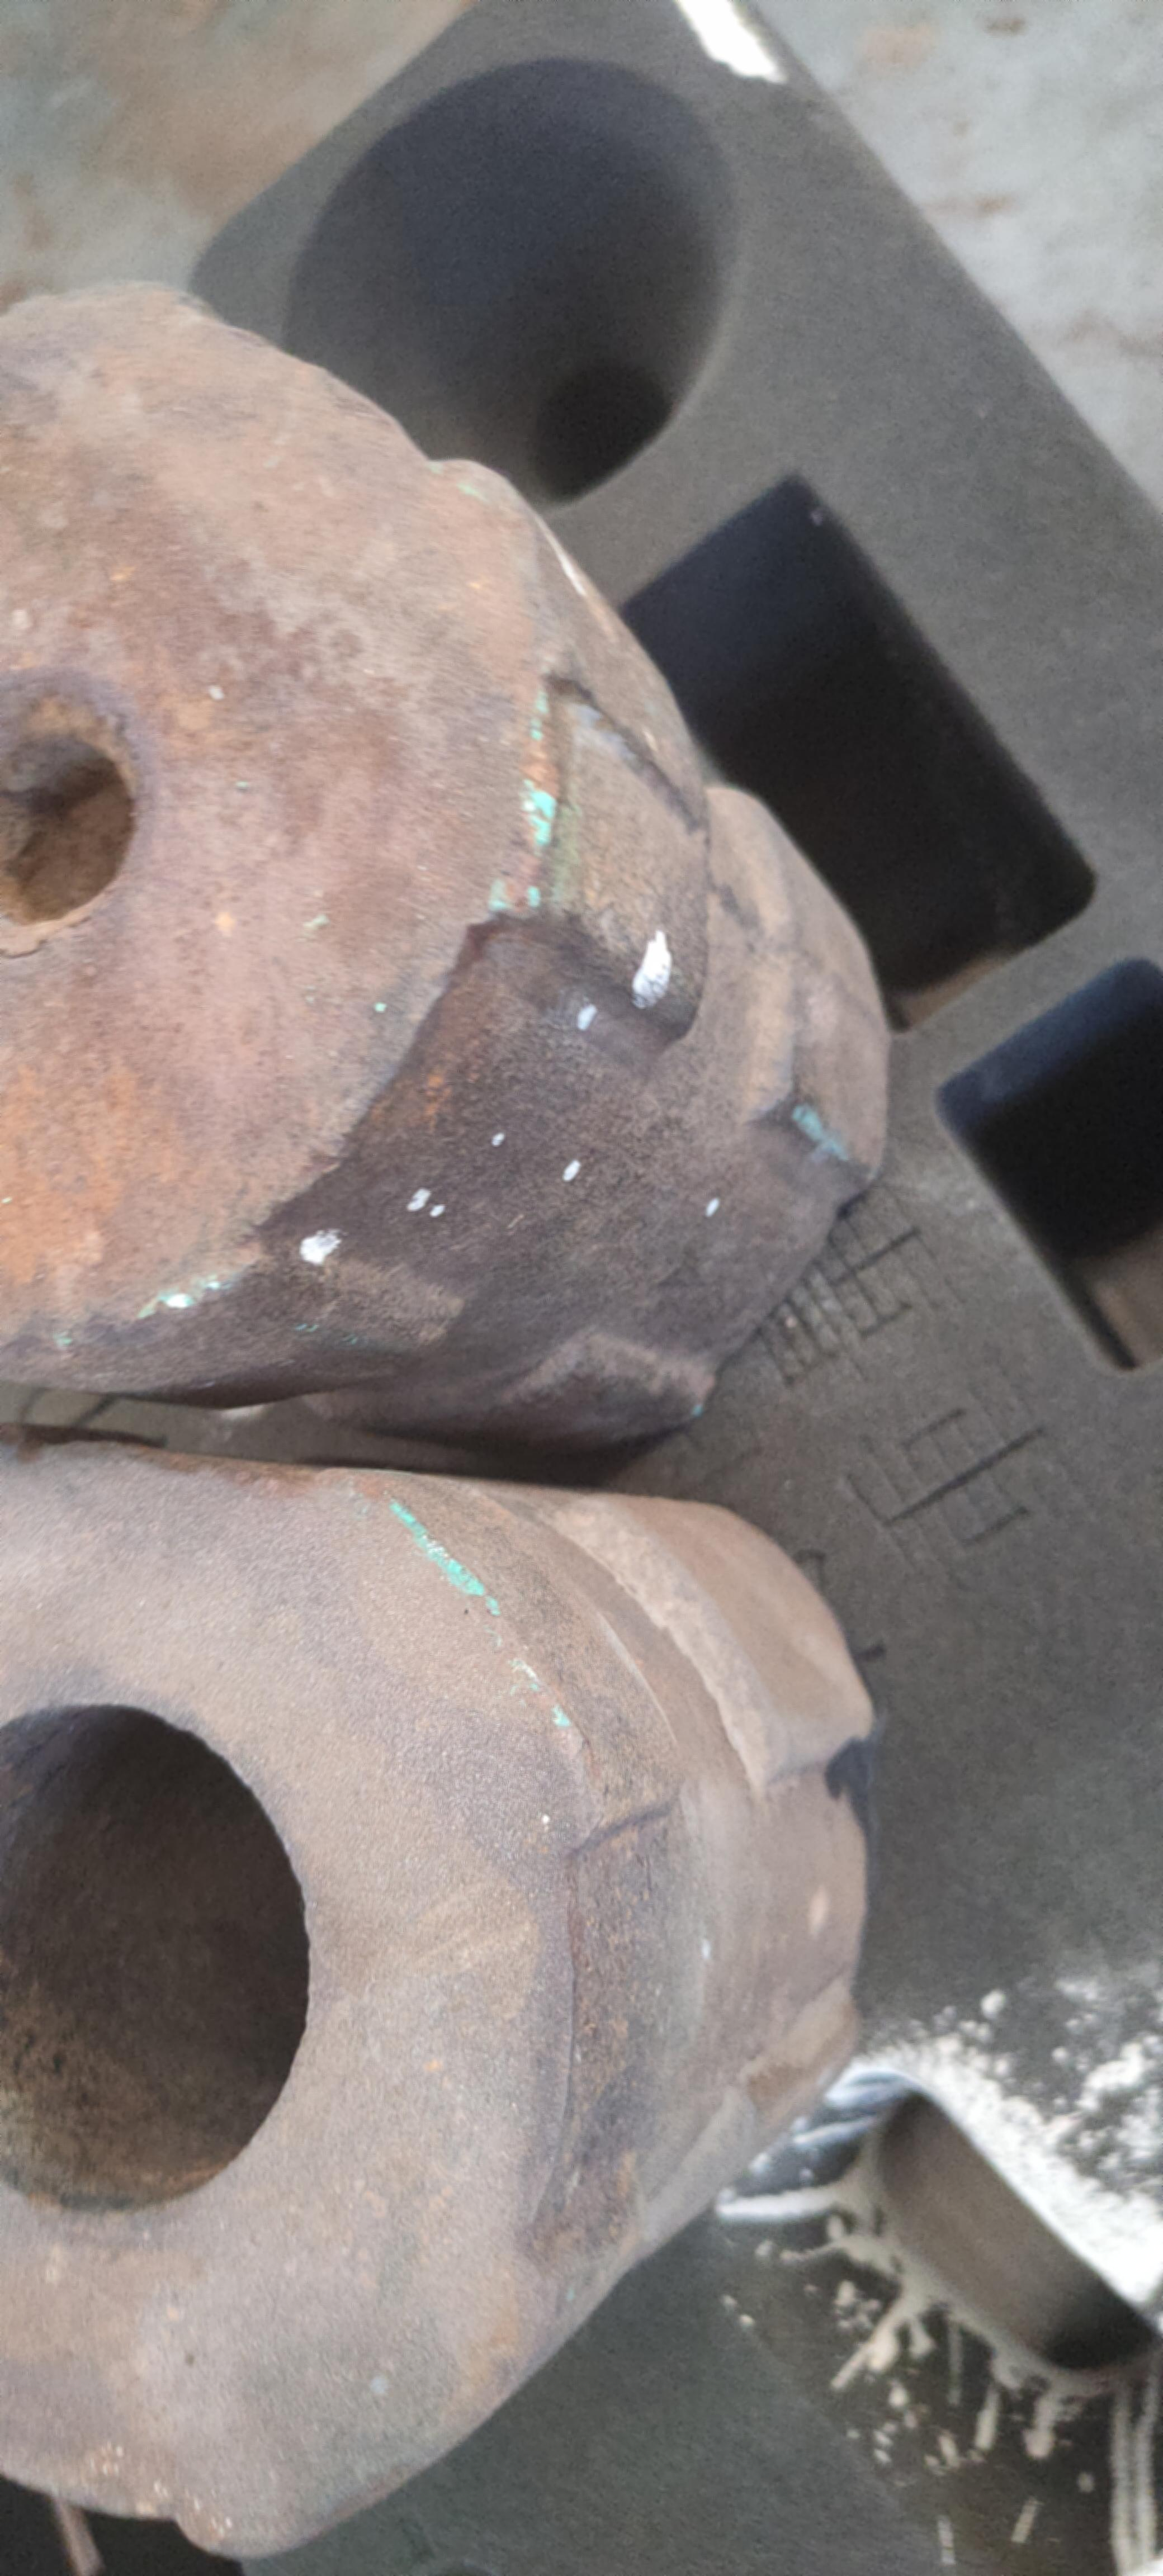pouring hole: (279, 57, 739, 519)
